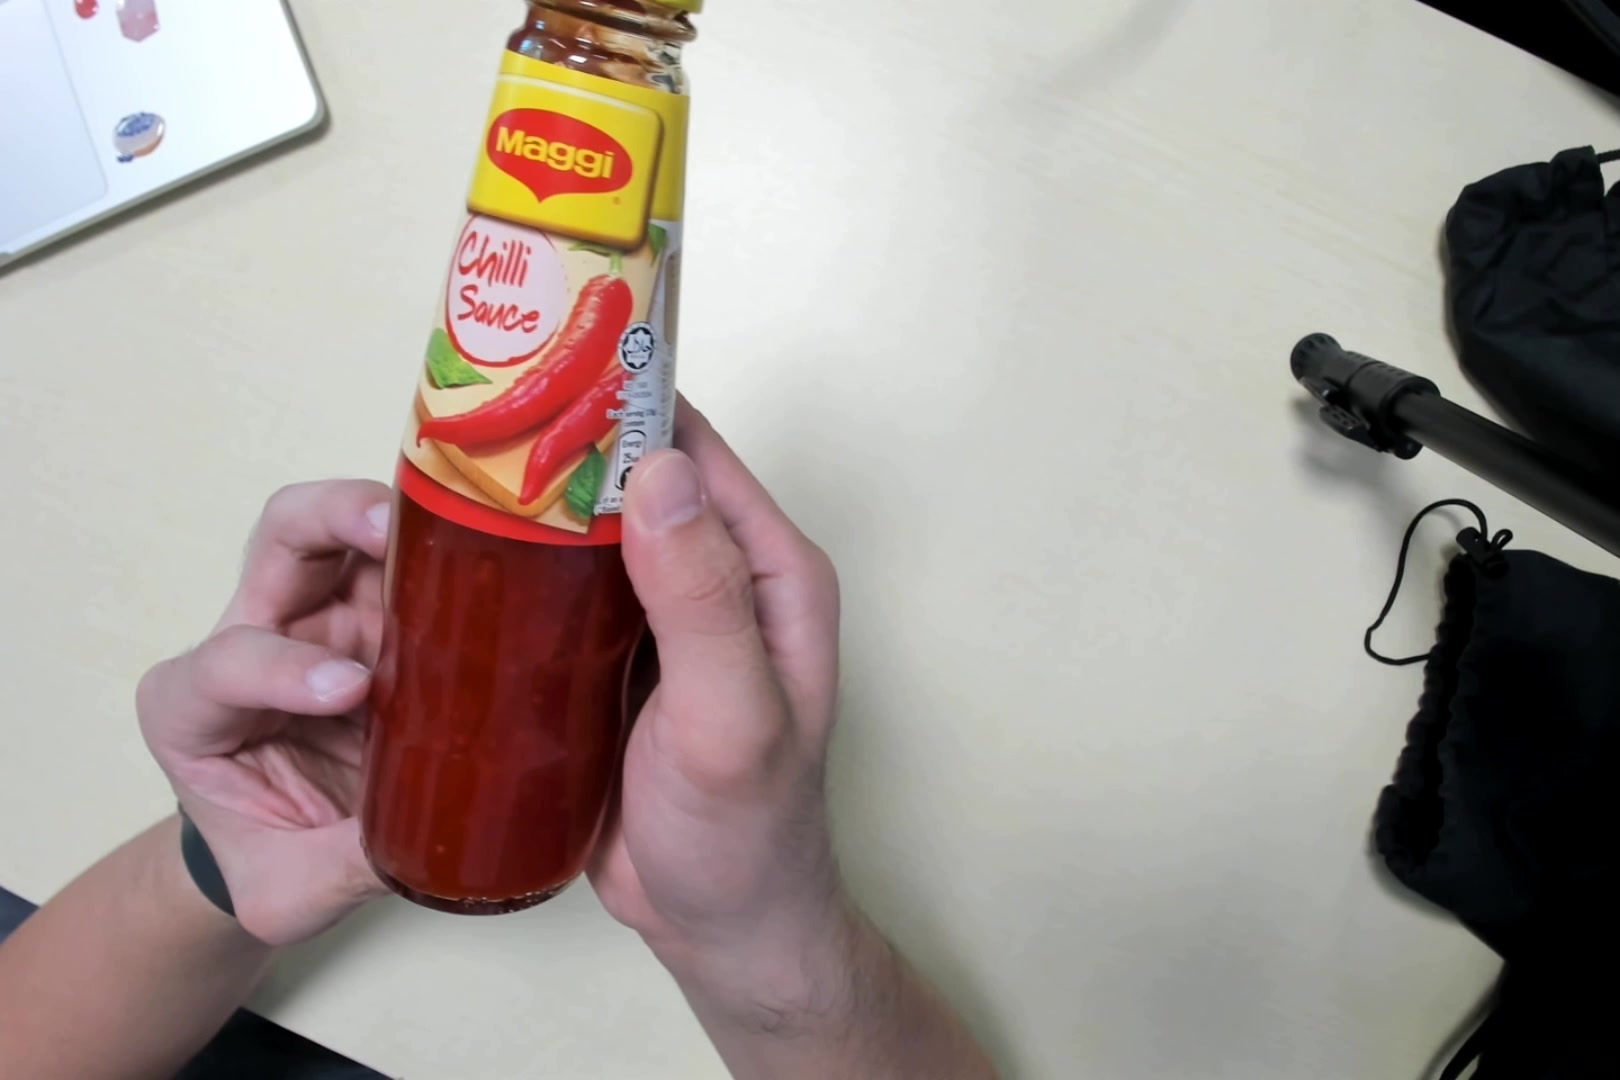KetchupChillSauce_300-399g_Halal_NonHealthy: (365, 1, 708, 908)
